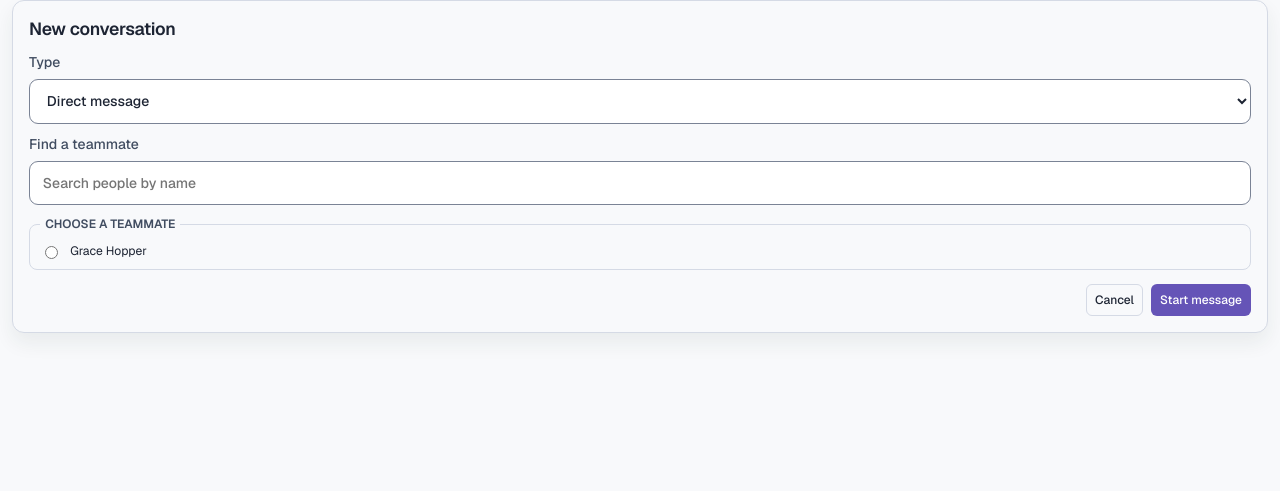
Scenario: CreateConversationForm › preserves a searched recipient when starting a direct conversation fails
Type "Grace" into the search field at (640, 183), box [29,161,1251,205]
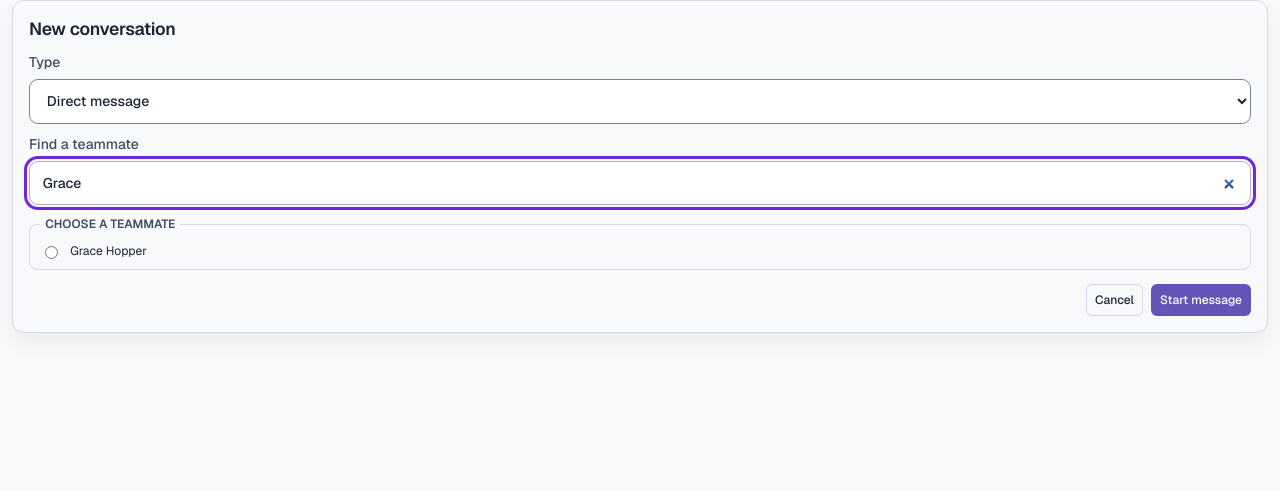
Click the radio button labelled "Grace Hopper" at (52, 252), box [45,246,58,259]
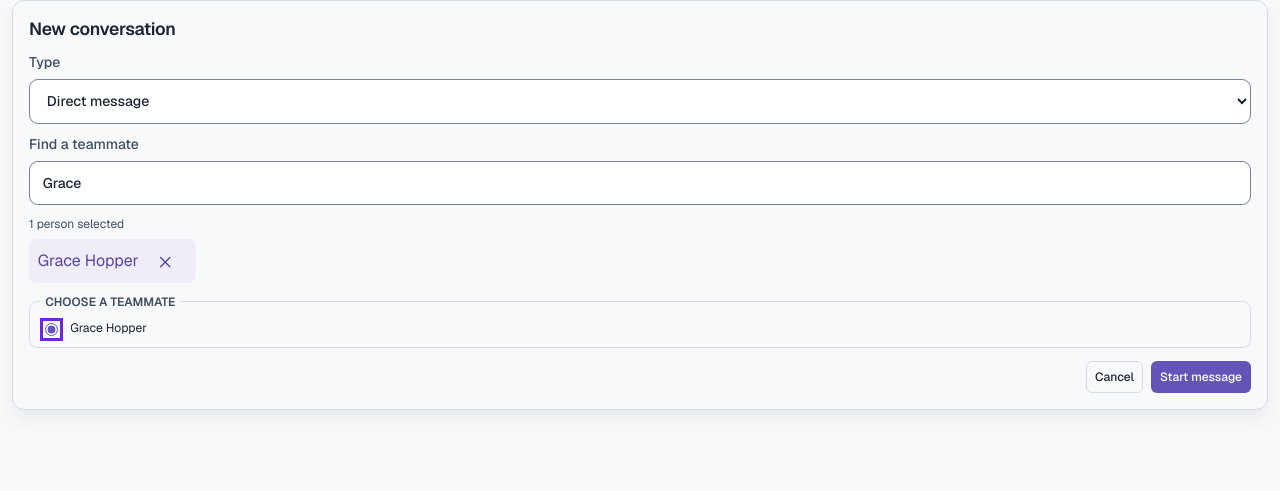
Click the button "Start message" at (1201, 377), box [1151,361,1251,393]
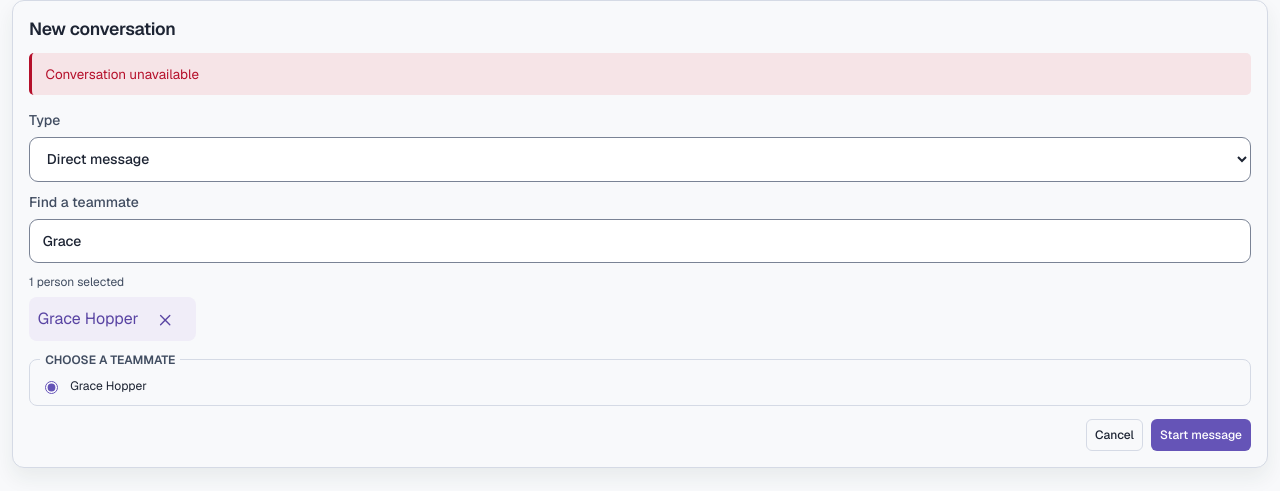
Result: the radio button labelled "Grace Hopper" is checked at [45,381,58,394]
Result: the message reads "Conversation unavailable" at [46,65,199,83]
